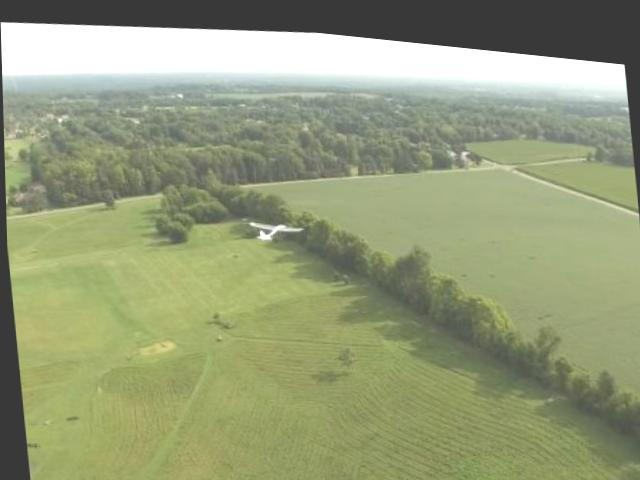uav: (237, 202, 316, 250)
